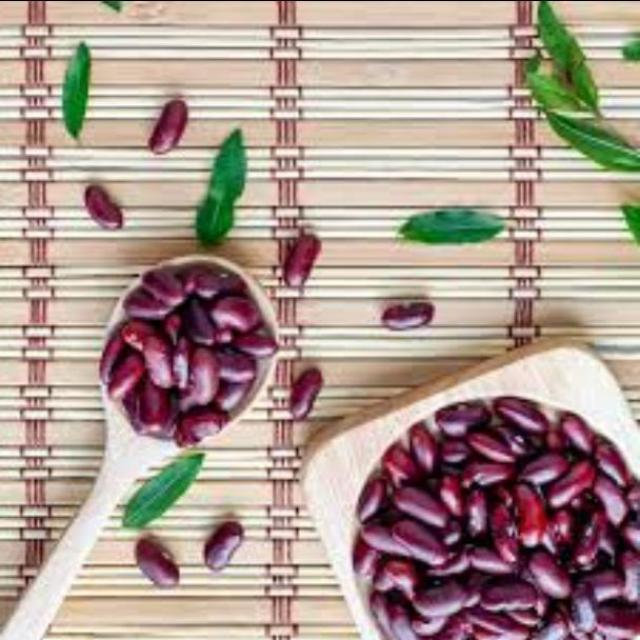fasol: (360, 372, 640, 640), (99, 248, 282, 448), (272, 220, 334, 298), (137, 90, 196, 163), (194, 516, 254, 580), (134, 526, 188, 596), (280, 355, 328, 428), (86, 177, 140, 238), (361, 300, 441, 336)
